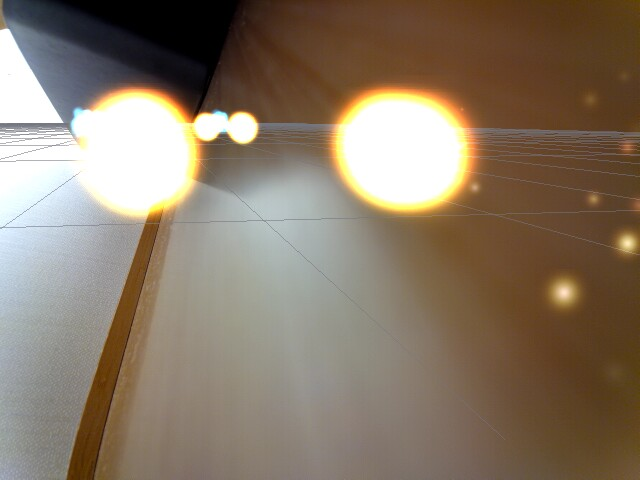firebig: (76, 82, 198, 224)
